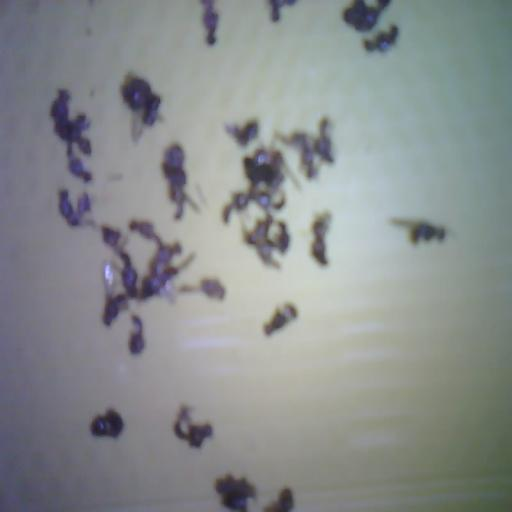Insects: (223, 147, 300, 223), (50, 89, 92, 182), (278, 117, 334, 179), (140, 244, 195, 301), (162, 144, 199, 219), (121, 74, 161, 141), (244, 147, 300, 191), (244, 215, 289, 267), (245, 215, 280, 268), (102, 262, 129, 326), (174, 406, 213, 447), (215, 474, 256, 511), (343, 0, 389, 31), (390, 219, 446, 244), (59, 189, 94, 226), (264, 303, 297, 335), (312, 213, 331, 265), (363, 25, 398, 52), (180, 279, 225, 300), (91, 409, 124, 437), (68, 146, 92, 182), (225, 120, 258, 146), (315, 117, 334, 162), (120, 251, 138, 297), (129, 220, 162, 245), (103, 293, 128, 326), (202, 0, 218, 45), (100, 225, 126, 251), (264, 488, 293, 511), (268, 0, 296, 22), (129, 315, 144, 354), (271, 222, 289, 253)
